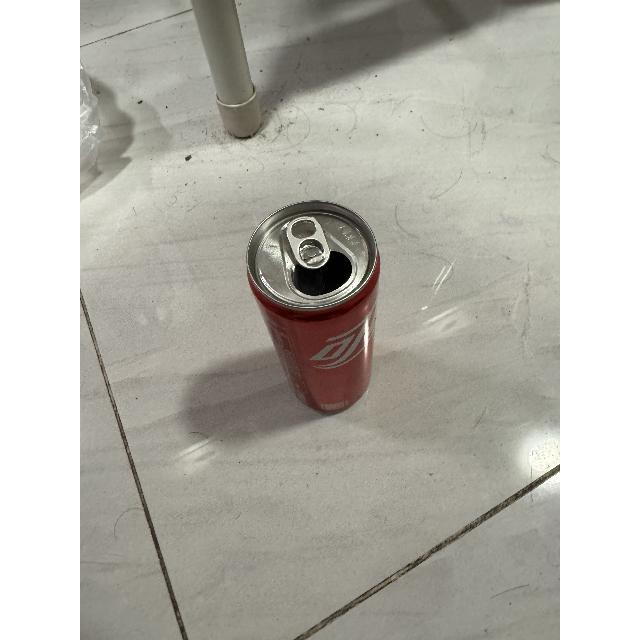coca-cola: (241, 196, 387, 420)
